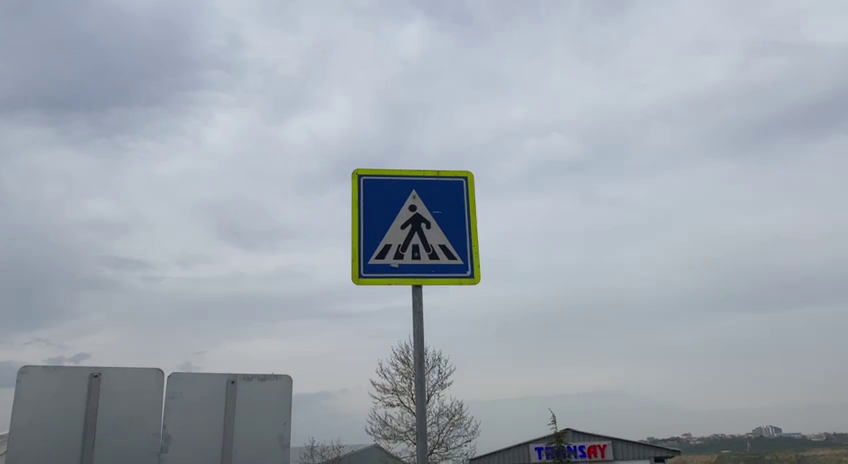pedestrianCrossing: (348, 166, 483, 287)
